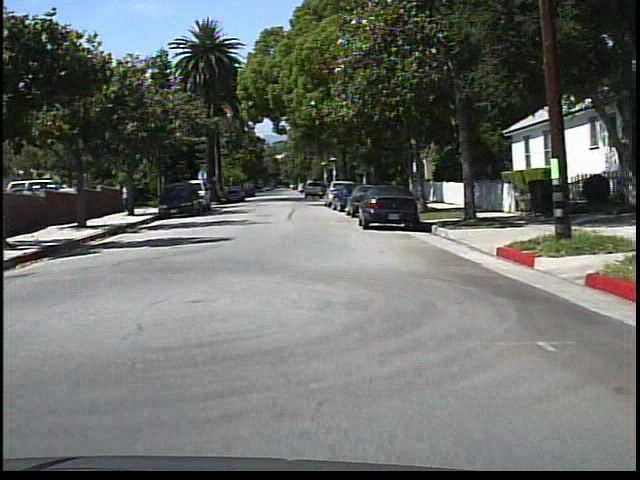person: (119, 180, 135, 216)
